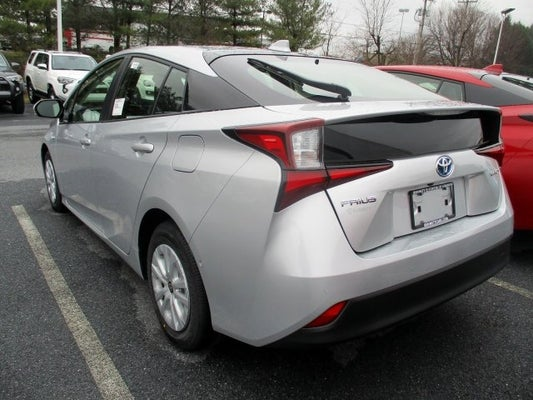Toyota Prius: (30, 41, 518, 360)
